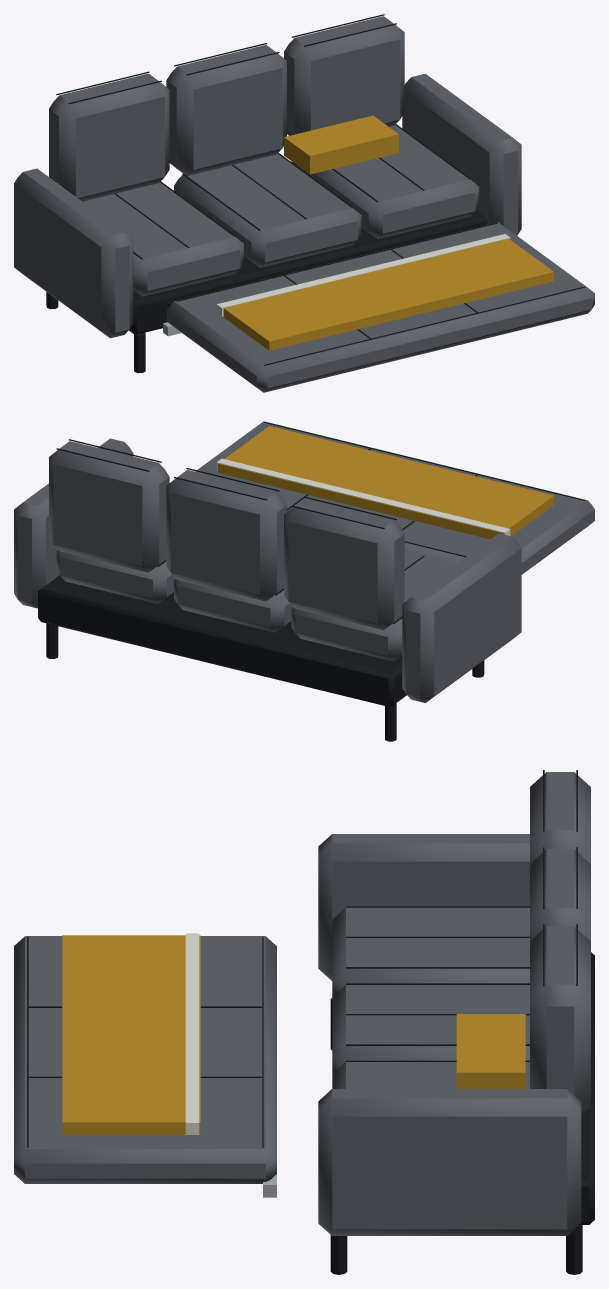
Rendered from bed_couch_bed.glb.
3 renders of one model, top to bottom at view 1: azimuth 30°, elevation 25°; view 2: azimuth 150°, elevation 25°; view 3: azimuth 270°, elevation 25°, orthographic. The views are drawn at different scales.
Parts seen in each view (by area): view 1: bed_couch_bed; view 2: bed_couch_bed; view 3: bed_couch_bed.
Part boxes in pixels (bbox=[...]): bed_couch_bed: bbox=[14, 14, 594, 392]; bed_couch_bed: bbox=[14, 421, 594, 741]; bed_couch_bed: bbox=[14, 770, 594, 1274].
Size of the model in its own units: 2.36 by 1.13 by 2.1.
